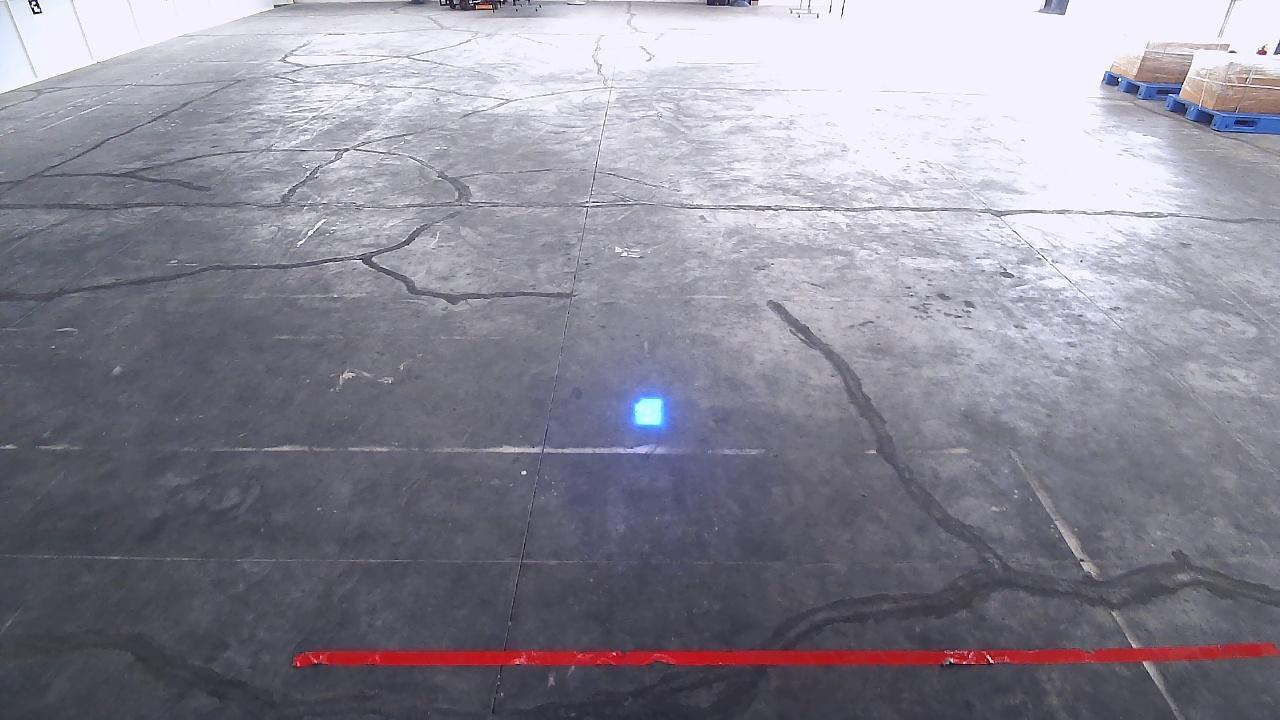red_line: (296, 640, 1280, 664)
